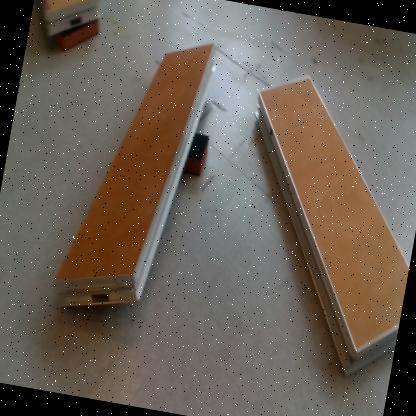Stairs: (254, 76, 410, 380), (54, 42, 216, 307), (38, 1, 100, 38)
